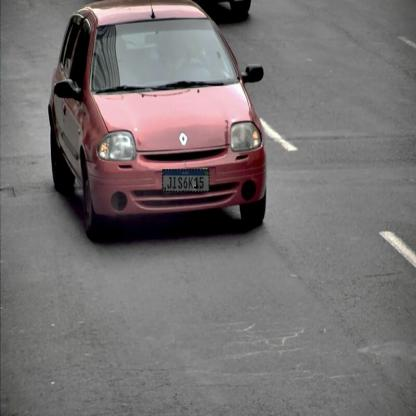PlacaM: (162, 169, 210, 192)
